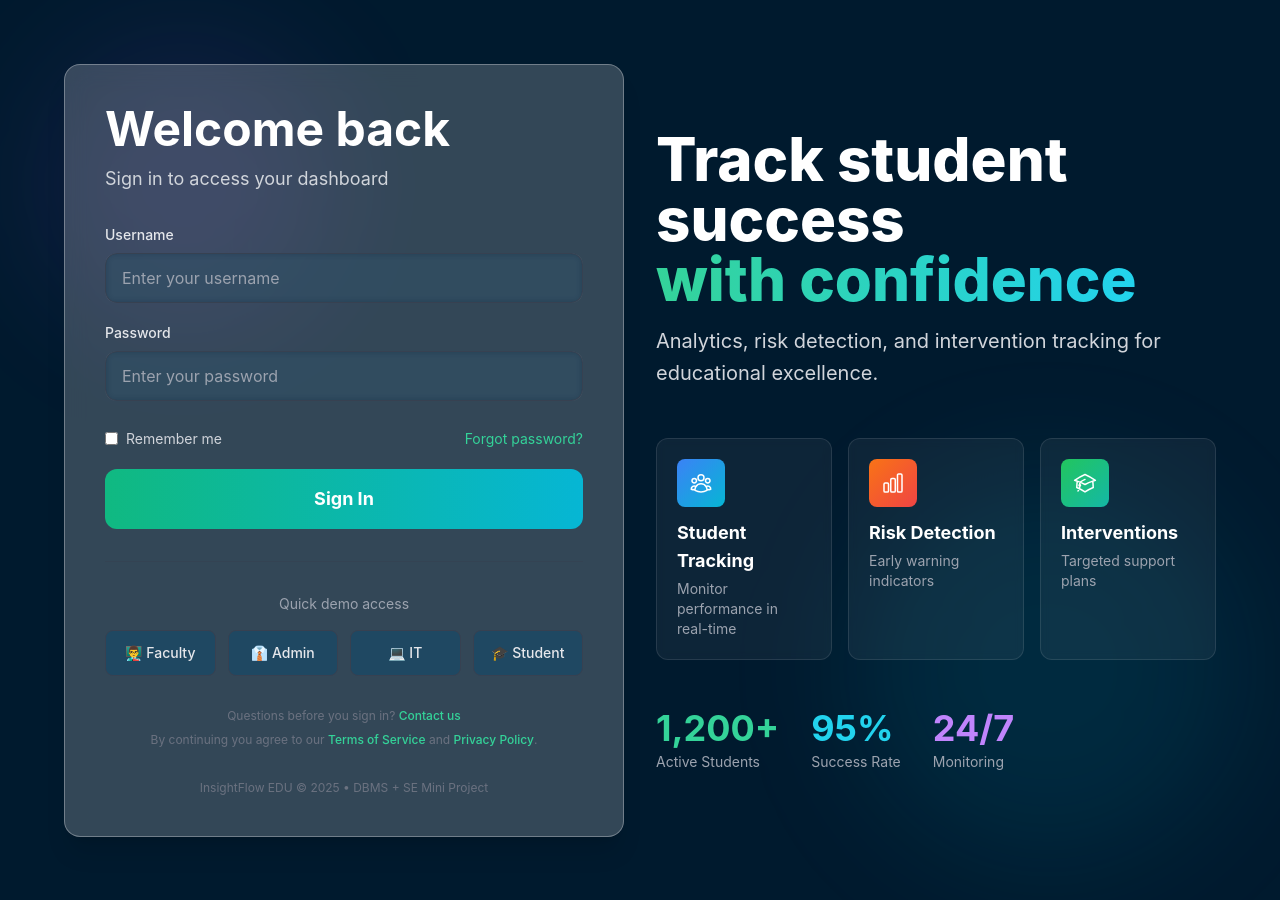
Test case: LoginPage › shows validation errors for empty fields
Click the button "Sign In" at [344, 498], box top-left (105, 468), bottom-right (583, 528)
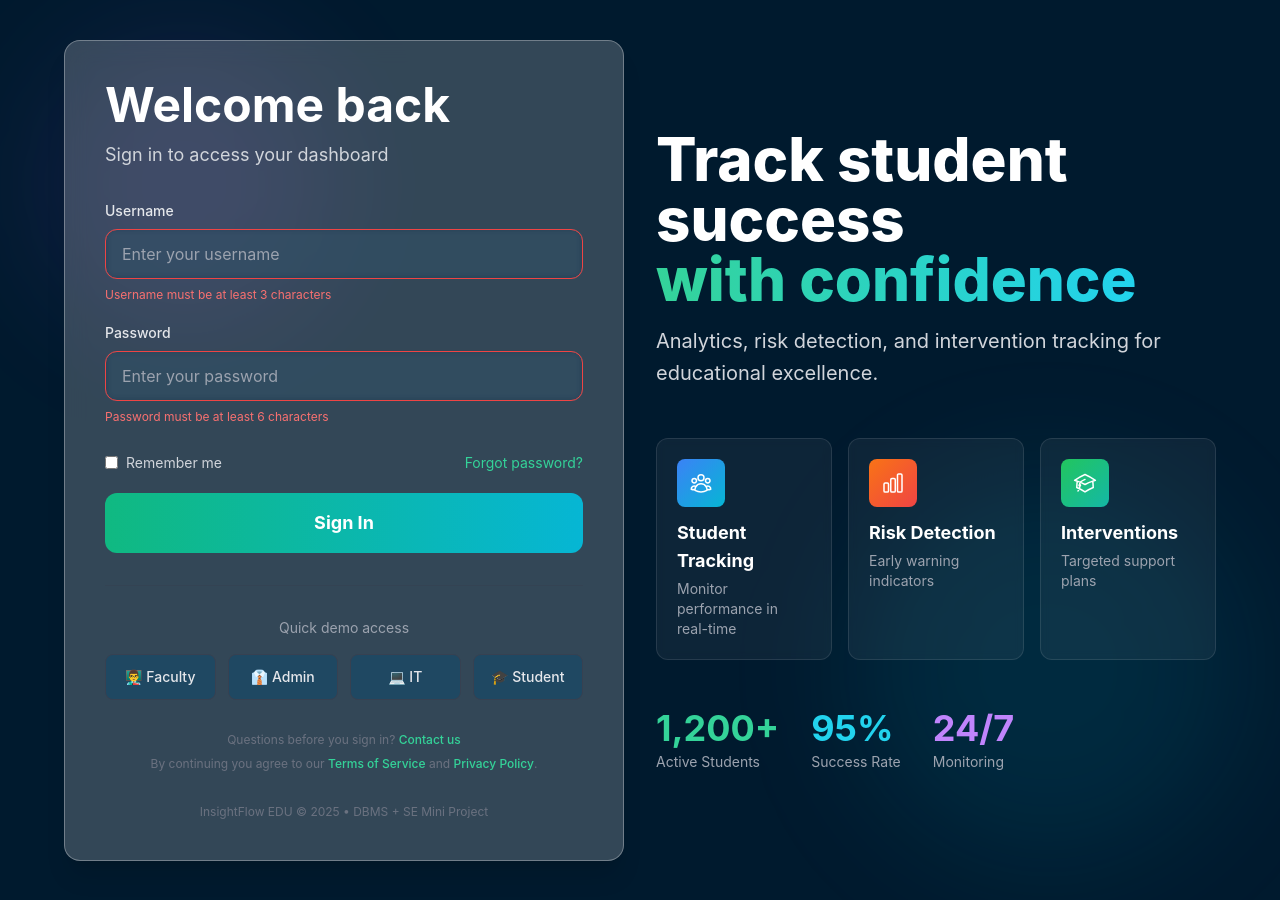
Expected: the text "Username must be at least 3 characters" is shown, top-left (105, 286), bottom-right (331, 302)
